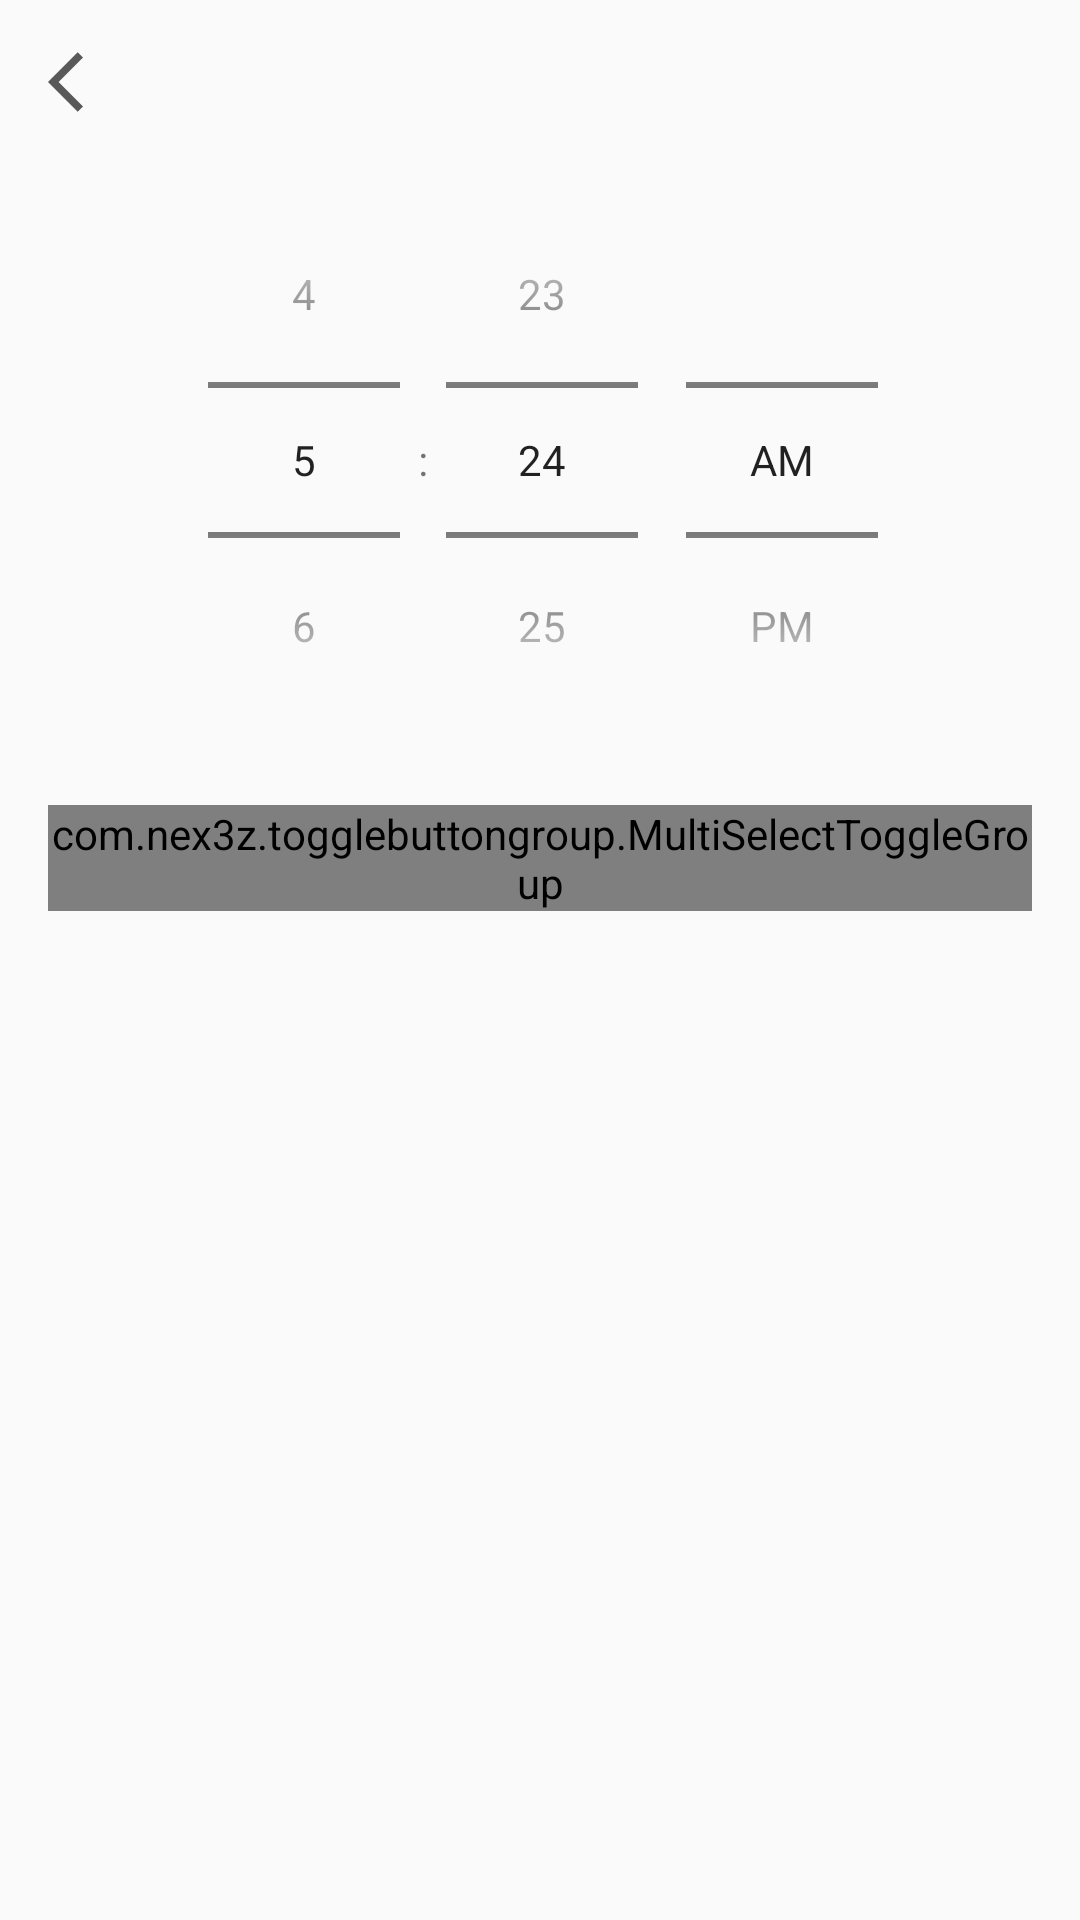

Named icons in this screenshot (1080*1920) and their centers, [x,y]:
back: [65,82]
